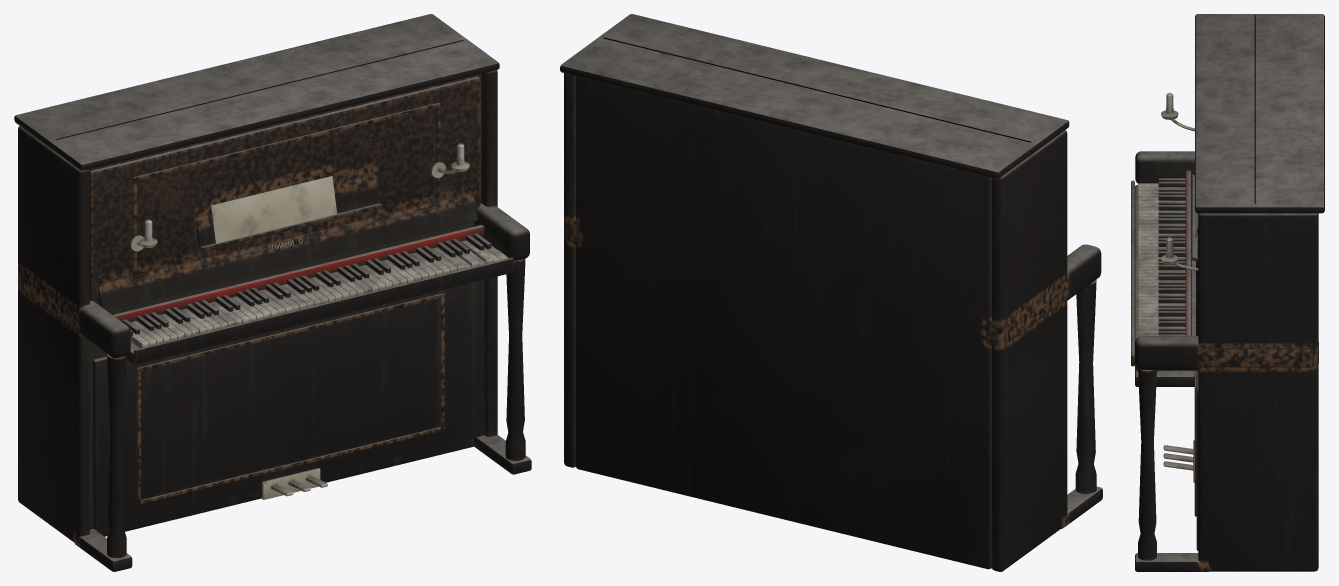
Rendered from SM_Piano_Upright.fbx.
The picture shows the model from 3 angles, left to right: view 1: azimuth 30°, elevation 25°; view 2: azimuth 150°, elevation 25°; view 3: azimuth 270°, elevation 25°; orthographic projection. The views are drawn at different scales.
Parts seen in each view (by area): view 1: SM_Piano_Upright; view 2: SM_Piano_Upright; view 3: SM_Piano_Upright.
Boxes of the visible parts, x1,y1,x2,y2 form: SM_Piano_Upright: (14, 14, 531, 571); SM_Piano_Upright: (560, 14, 1102, 571); SM_Piano_Upright: (1131, 14, 1324, 571).
Bounding box in the file's own units: 1.45 × 1.28 × 0.612.
1 material, 1 textured.
